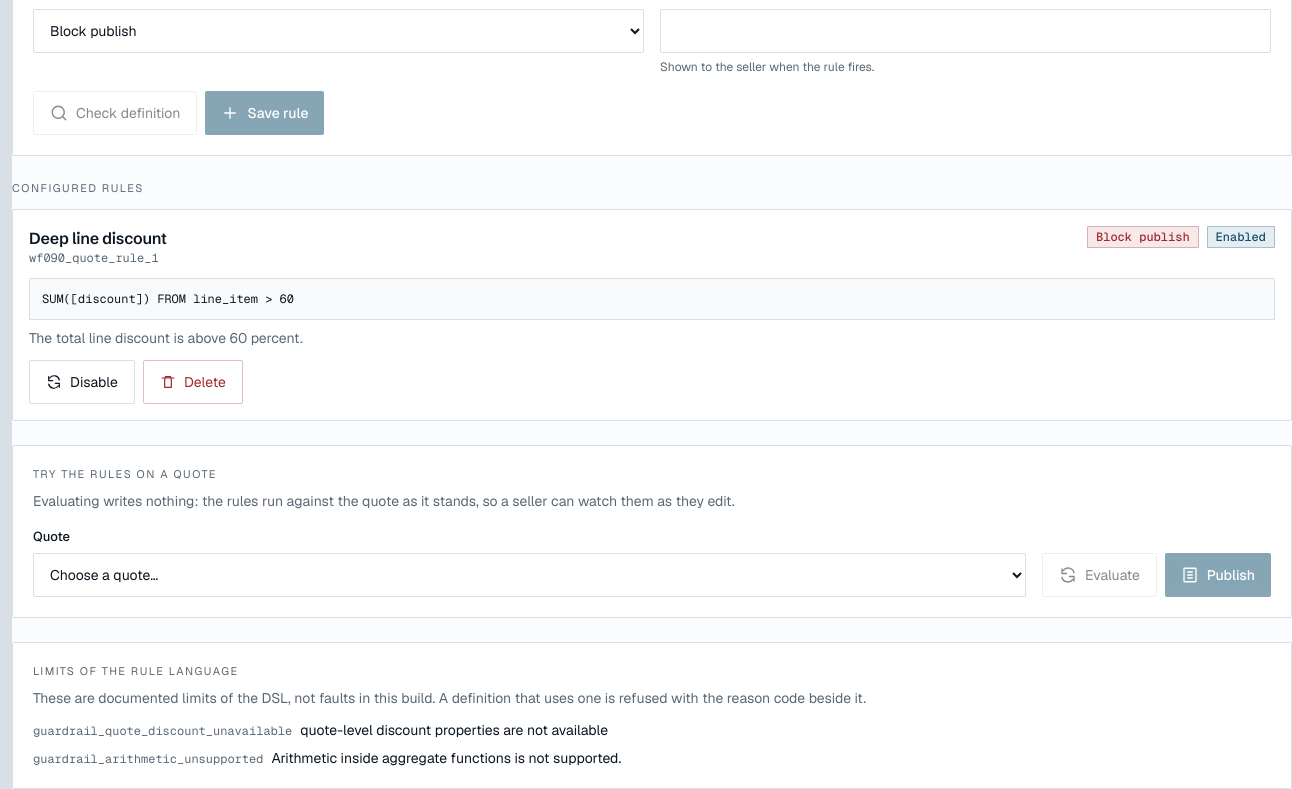
Test: the page › evaluates a quote without writing anything
(page scrolled)
Select "Northwind renewal" in the dropdown labelled "Quote" at (530, 575), box [33, 553, 1026, 597]
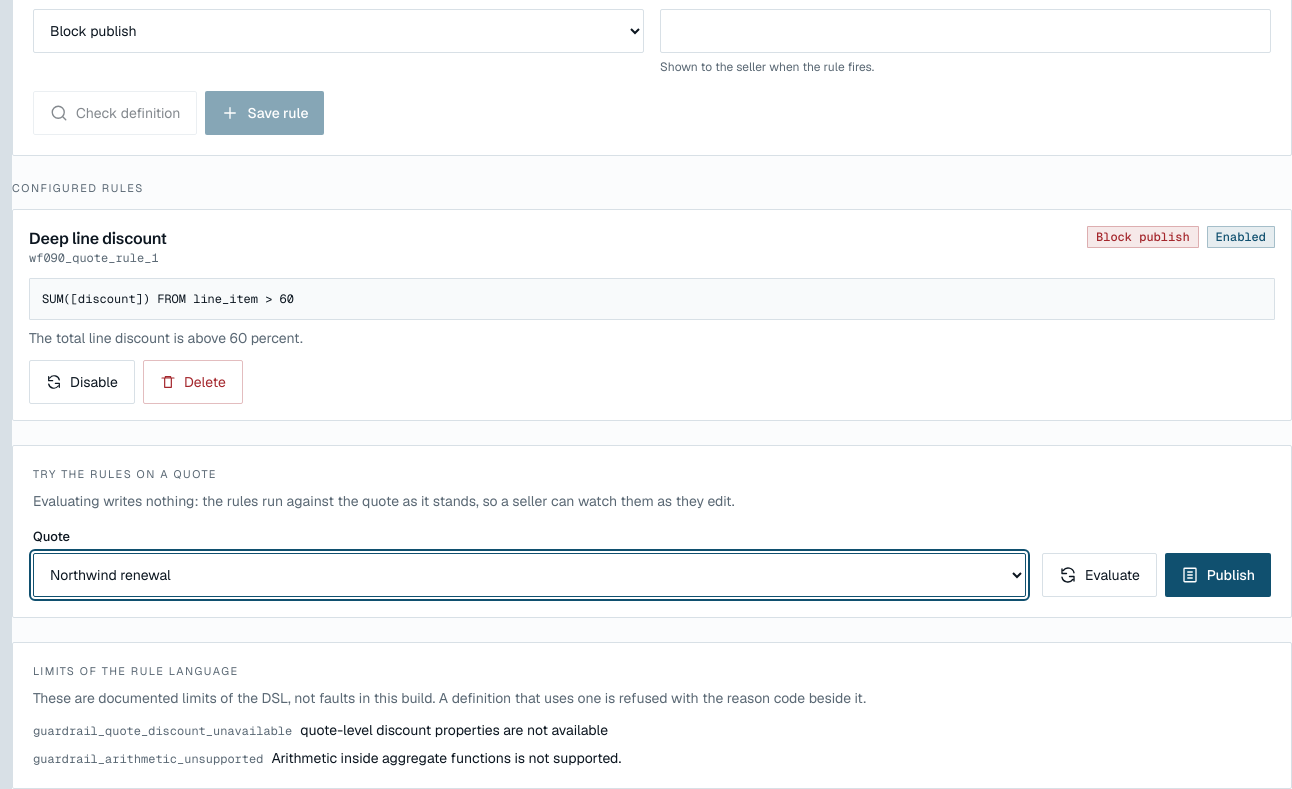
Click the button "Evaluate" at (1099, 575), box [1042, 553, 1157, 597]
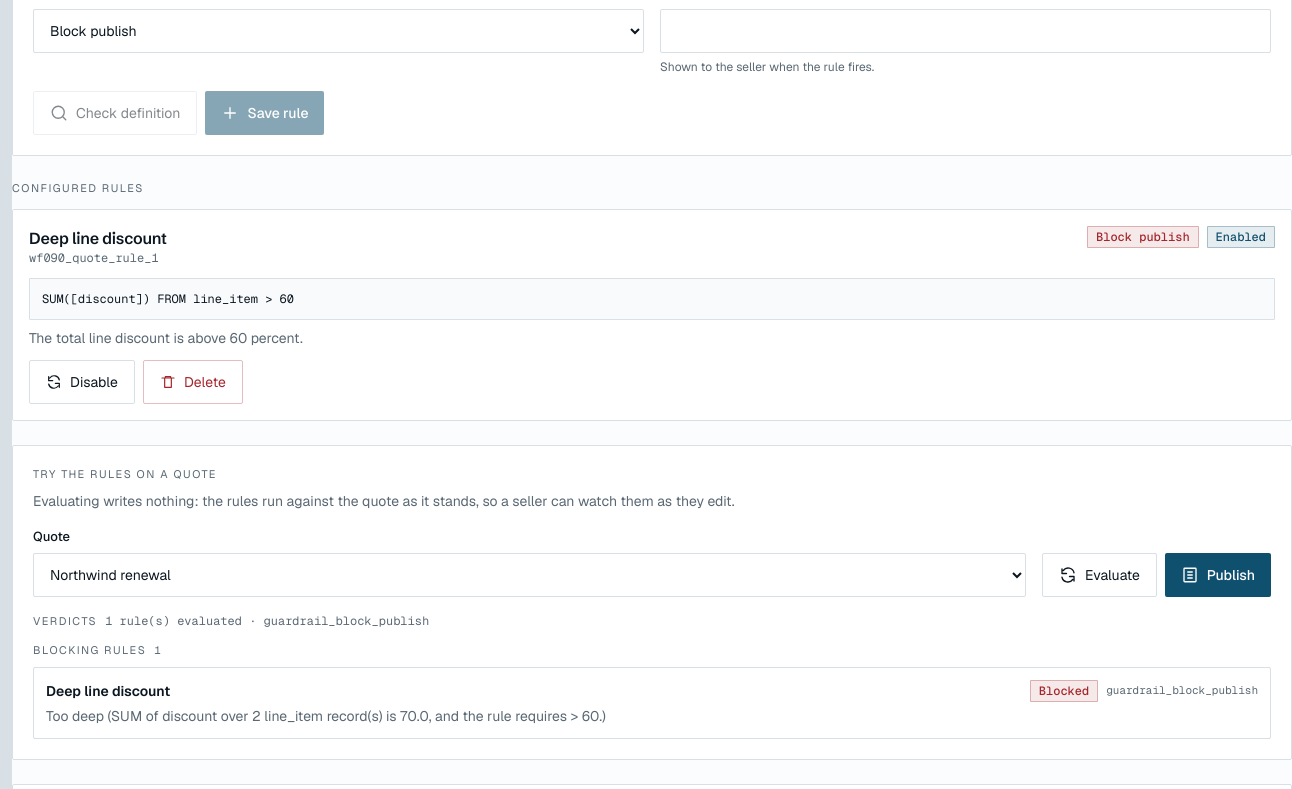
Expected: the text "Blocking rules" is shown, [33, 642, 146, 659]
